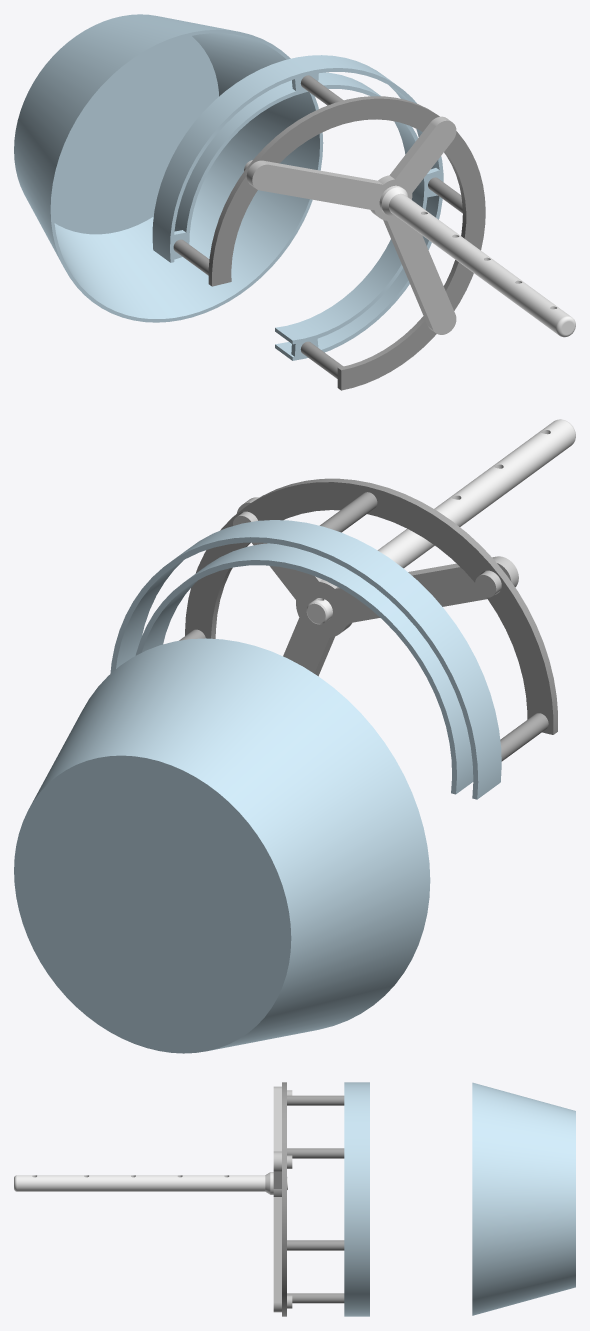
Rendered from bowl_with_flowerholder.gltf.
3 views of the same model, one above another, from view 1: azimuth 30°, elevation 25°; view 2: azimuth 150°, elevation 25°; view 3: azimuth 270°, elevation 25° (orthographic). The views are drawn at different scales.
Parts seen in each view (by area): view 1: Part 1 (×4), Three-arm centre holder; view 2: Part 1 (×4), Three-arm centre holder; view 3: Part 1 (×4), Three-arm centre holder.
Boxes of the visible parts, x1,y1,x2,y2 form: Part 1 (×4): (14,14,575,390); Three-arm centre holder: (244,116,456,334); Part 1 (×4): (14,419,575,1053); Three-arm centre holder: (233,497,518,676); Part 1 (×4): (14,1082,575,1316); Three-arm centre holder: (273,1086,292,1312).
Size of the model in its own units: 0.2533 by 0.2381 by 0.5413.
